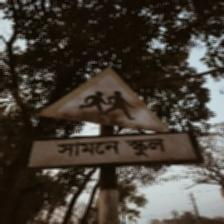School-in-front: (29, 65, 198, 170)
